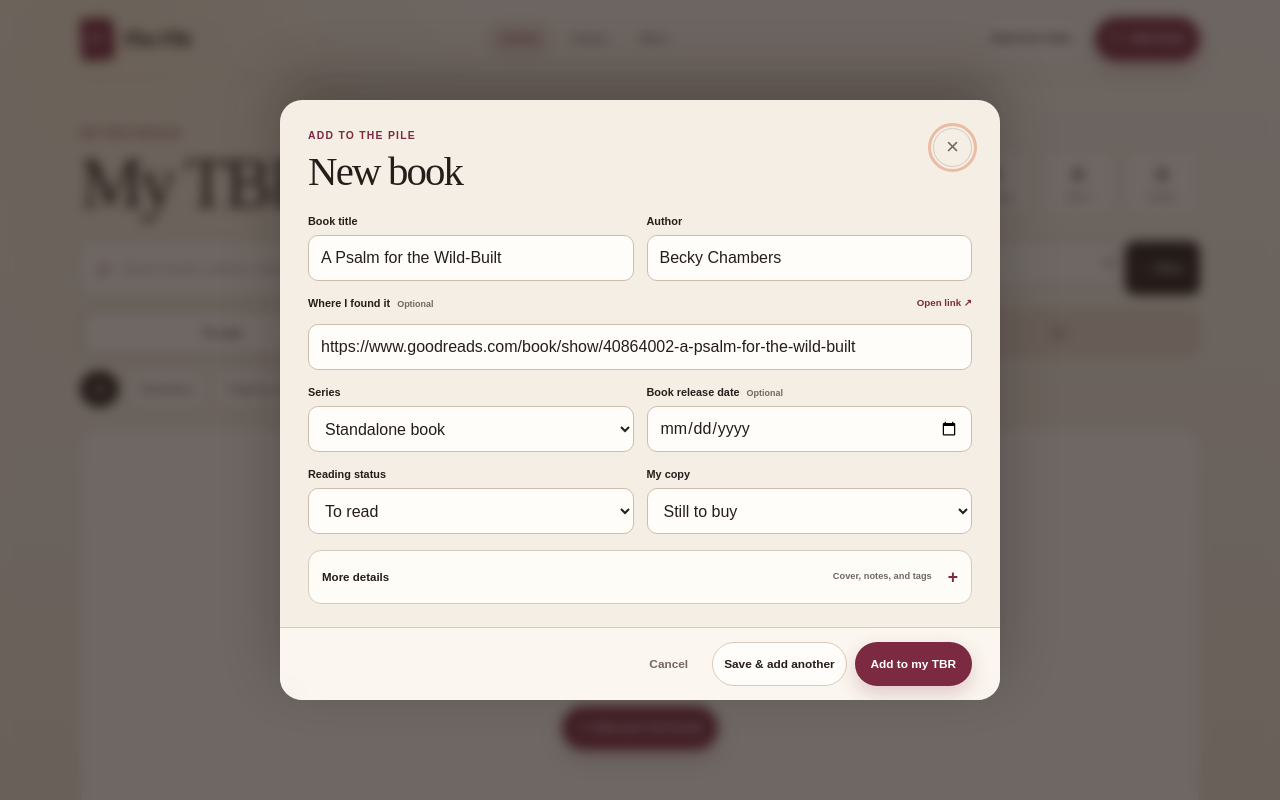
Test: Plot Pile behavior › opens a shared book after loading and strips the launch parameters
Expected: the field labelled "Book title" holds "A Psalm for the Wild-Built", [308,235,634,281]
Expected: the field labelled "Author" holds "Becky Chambers", [646,235,972,281]
What coordinates should you click on to do the following:
click the button "Add to my TBR"
I would click on:
 (913, 664)
Its box is [855,642,972,686].
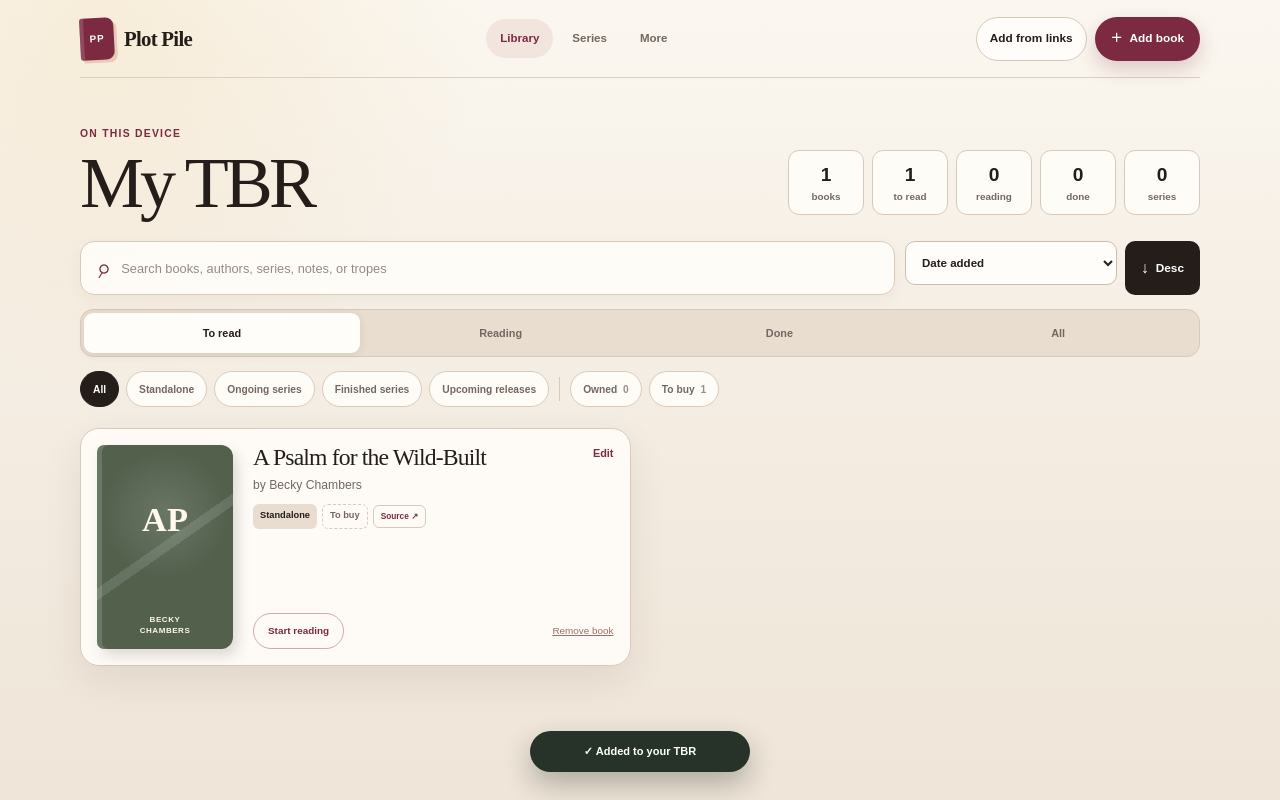
Now the link with aria-label "Open where A Psalm for the Wild-Built was found" is shown, box [373,505,426,528]
